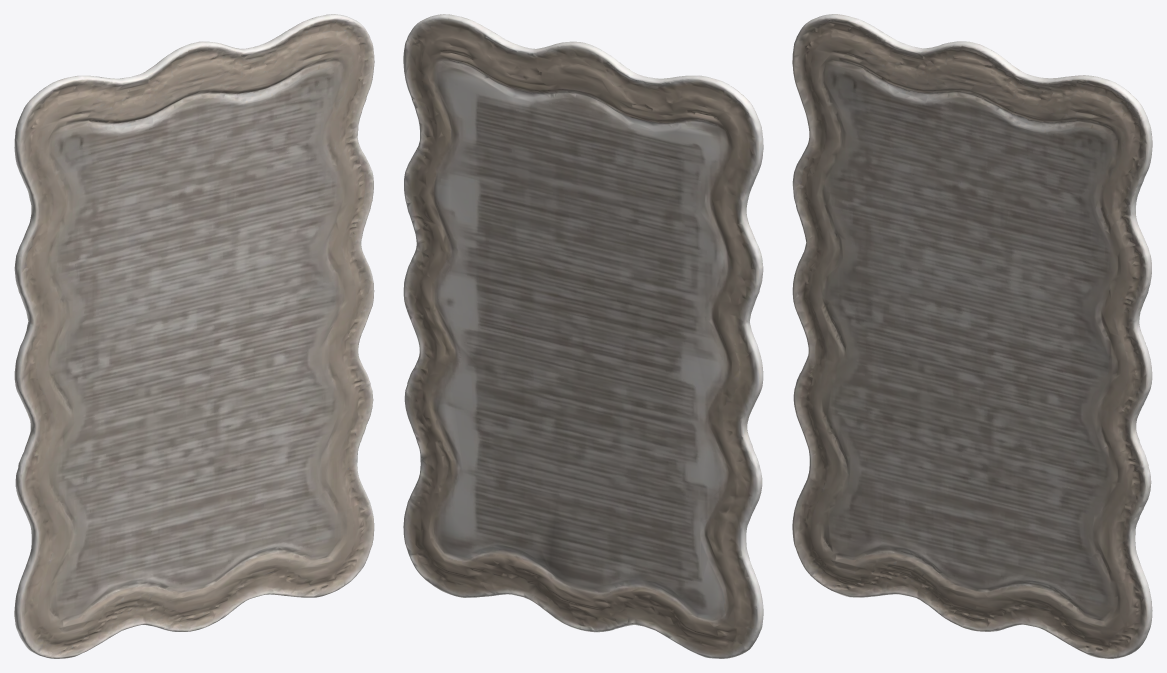
Rendered from mSHB95k6sZxzaDoYjnTFR.glb.
3 renders of one model, left to right at view 1: azimuth 30°, elevation 25°; view 2: azimuth 150°, elevation 25°; view 3: azimuth 330°, elevation 25°, orthographic.
Parts seen in each view (by area): view 1: geometry_0; view 2: geometry_0; view 3: geometry_0.
Part boxes in pixels (x1,y1,x2,y2): geometry_0: (14,14,374,658); geometry_0: (403,14,763,658); geometry_0: (792,14,1152,658).
Size of the model in its own units: 0.6416 by 1 by 0.019.
Materials: 1 (1 with a texture image).
